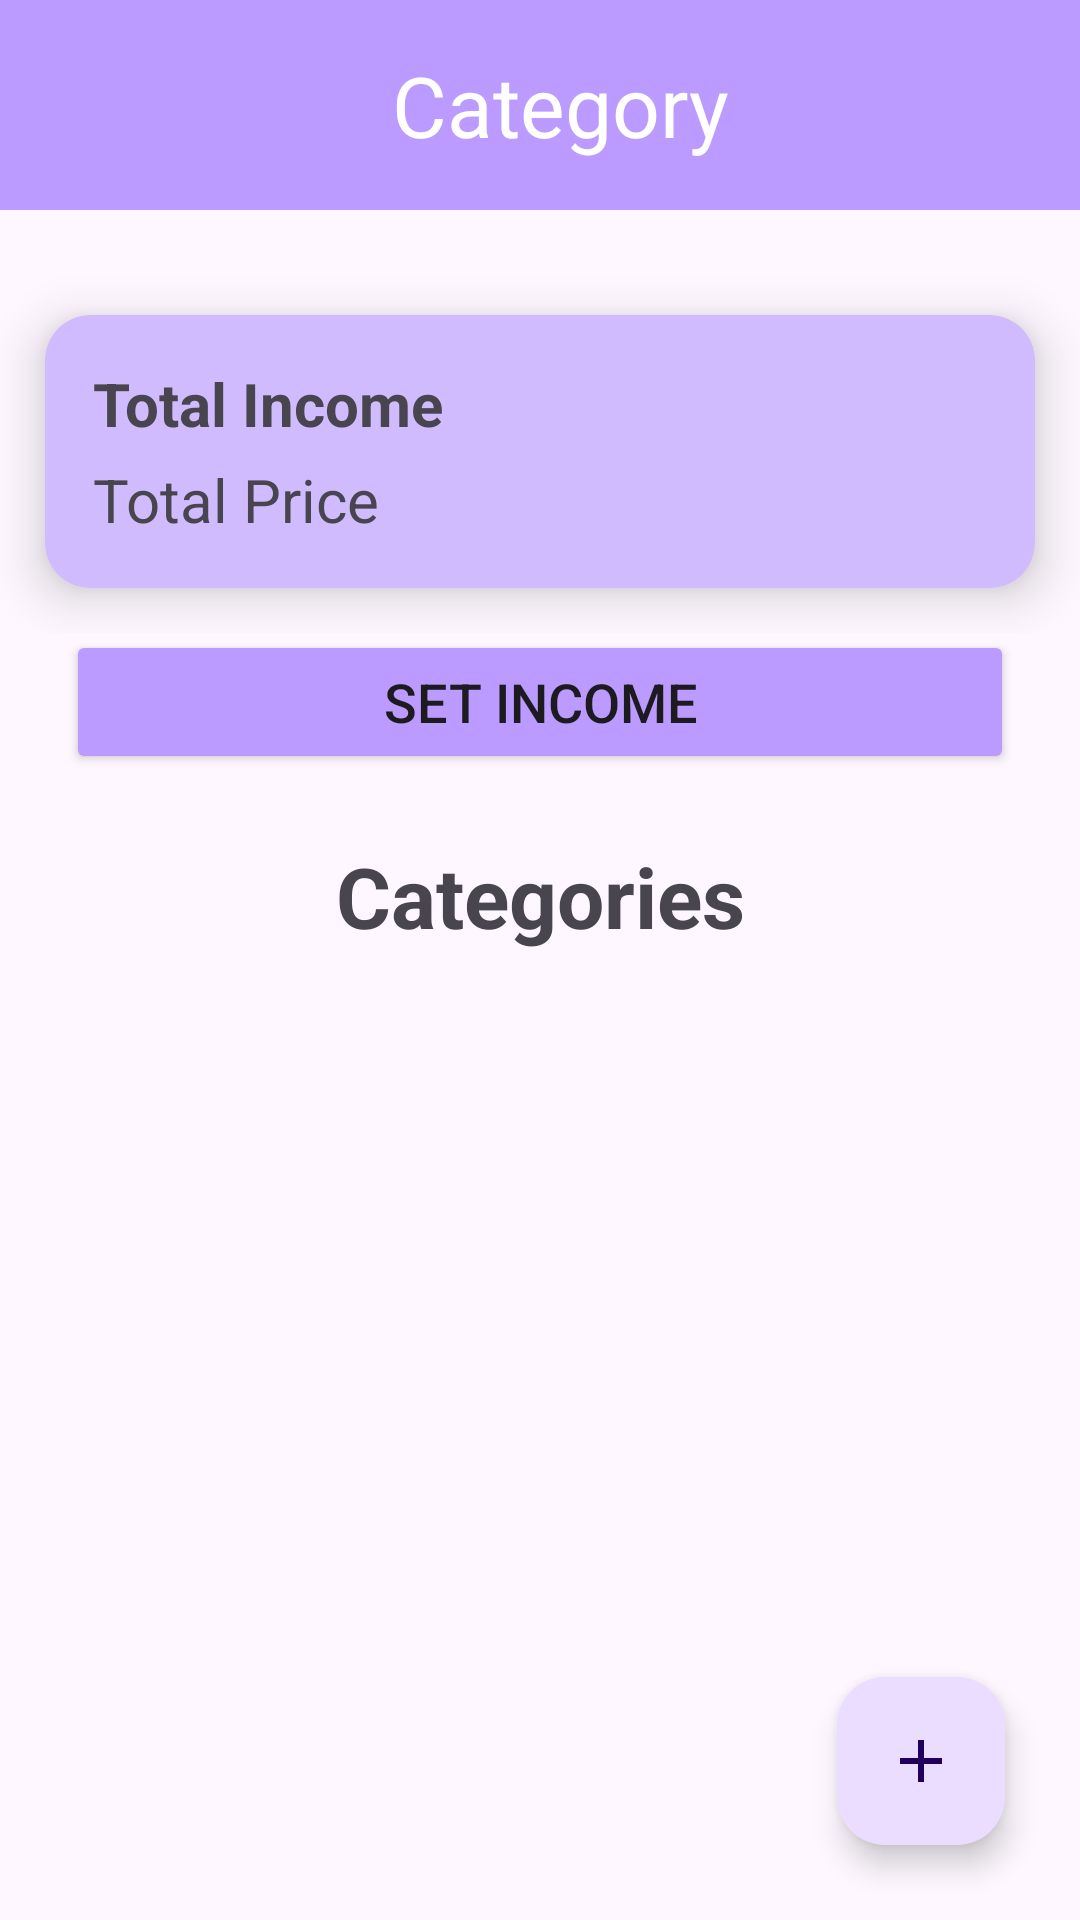

Icons on this 1080w x 1920h Android screen, each with the point to tap as [x,y]:
add: [921,1761]
